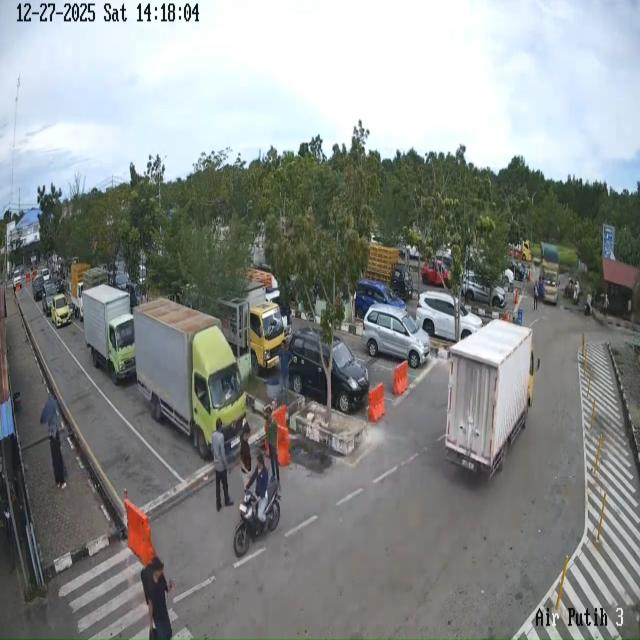Golongan IVA: (288, 327, 369, 413), (362, 304, 430, 368), (416, 291, 483, 341), (355, 279, 406, 320), (462, 272, 506, 308), (50, 294, 72, 328), (42, 282, 58, 315), (32, 275, 45, 302)
Golongan IVB: (69, 263, 91, 321)
Golongan VB: (133, 298, 246, 459), (445, 320, 540, 478), (83, 284, 136, 384), (540, 242, 560, 304)
